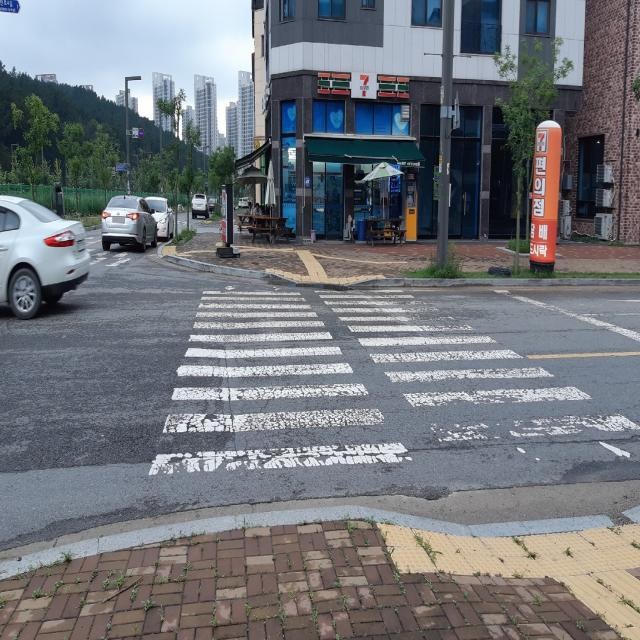횡단보도: (145, 282, 640, 482)
